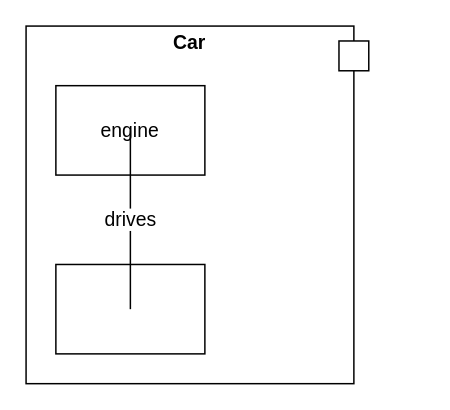
Some shapes in this 450 by 410 pixel diagram are drawn without their labels. Each missing label, with the box of its shape:
power: (337, 39, 369, 71)
wheels: (54, 263, 205, 354)
